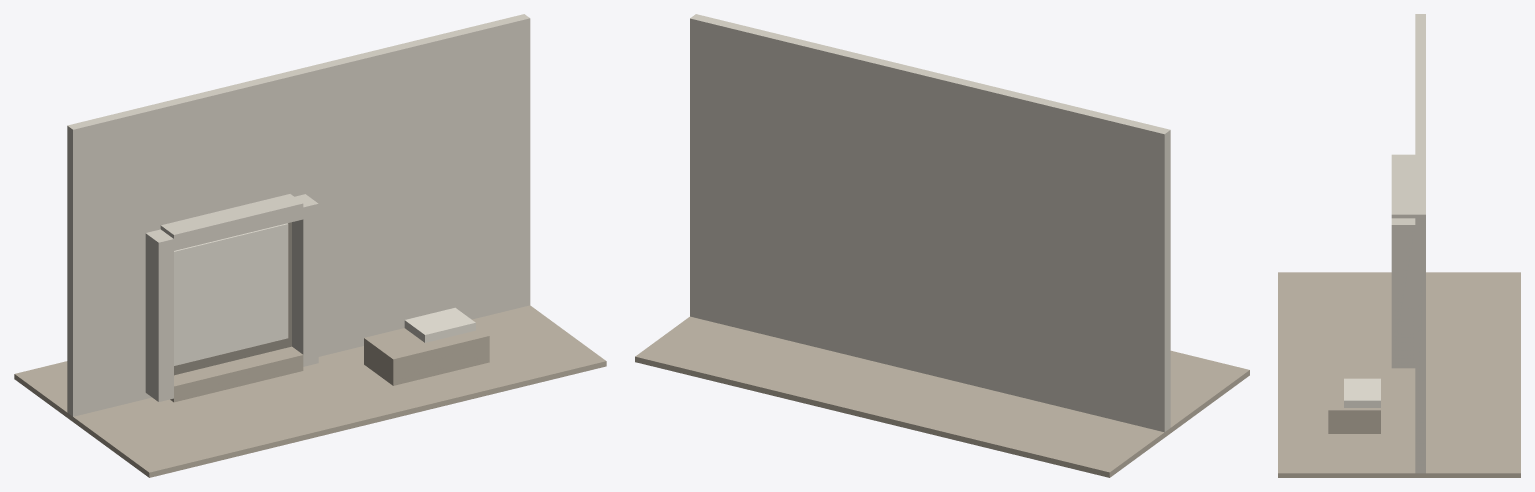
Rendered from default-gallery.glb.
3 views of the same model, side by side, from view 1: azimuth 30°, elevation 25°; view 2: azimuth 150°, elevation 25°; view 3: azimuth 270°, elevation 25° (orthographic). The views are drawn at different scales.
Visible parts, largest first — view 1: gallery back wall, distant gallery floor, niche ivory field, distant display ledge lower step, niche left return, niche right return, niche top return, niche lower return, distant display ledge upper step, niche recessed backing; view 2: gallery back wall, distant gallery floor; view 3: distant gallery floor, gallery back wall, niche right return, distant display ledge lower step, niche top return, distant display ledge upper step.
Boxes of the visible parts, x1,y1,x2,y2 form: gallery back wall: (67, 14, 530, 416); distant gallery floor: (14, 305, 606, 477); niche ivory field: (174, 223, 288, 365); distant display ledge lower step: (364, 326, 489, 385); niche left return: (145, 229, 173, 401); niche right return: (292, 194, 318, 366); niche top return: (160, 194, 303, 250); niche lower return: (170, 346, 303, 402); distant display ledge upper step: (404, 307, 475, 342); niche recessed backing: (174, 222, 291, 375); gallery back wall: (690, 14, 1170, 432); distant gallery floor: (635, 316, 1249, 477); distant gallery floor: (1278, 272, 1520, 477); gallery back wall: (1415, 14, 1425, 473); niche right return: (1391, 218, 1415, 368); distant display ledge lower step: (1328, 368, 1380, 433); niche top return: (1391, 157, 1415, 218); distant display ledge upper step: (1344, 378, 1380, 407).
Size of the model in its own units: 1.8 by 1.1 by 0.92.
